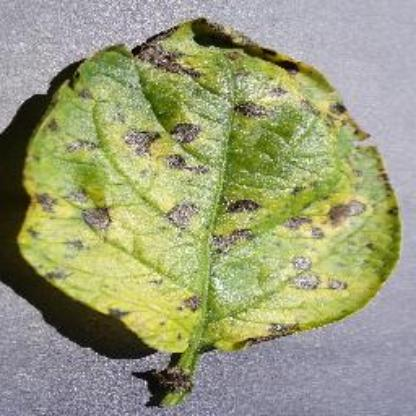Early-Blight: (14, 14, 404, 402)
